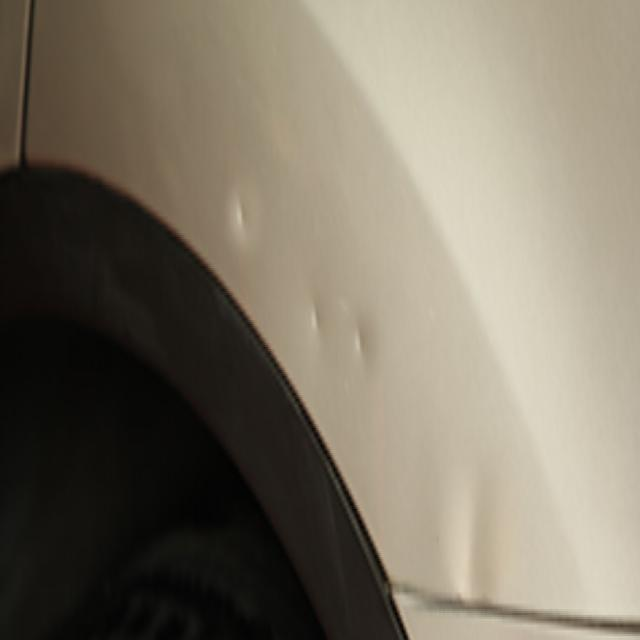dents: (441, 465, 505, 625), (353, 314, 381, 389), (226, 174, 253, 244), (308, 290, 326, 352)
